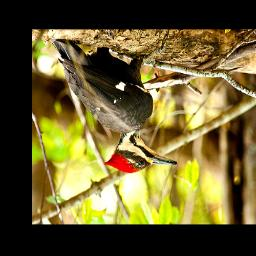Woodpecker: (53, 38, 180, 172)
